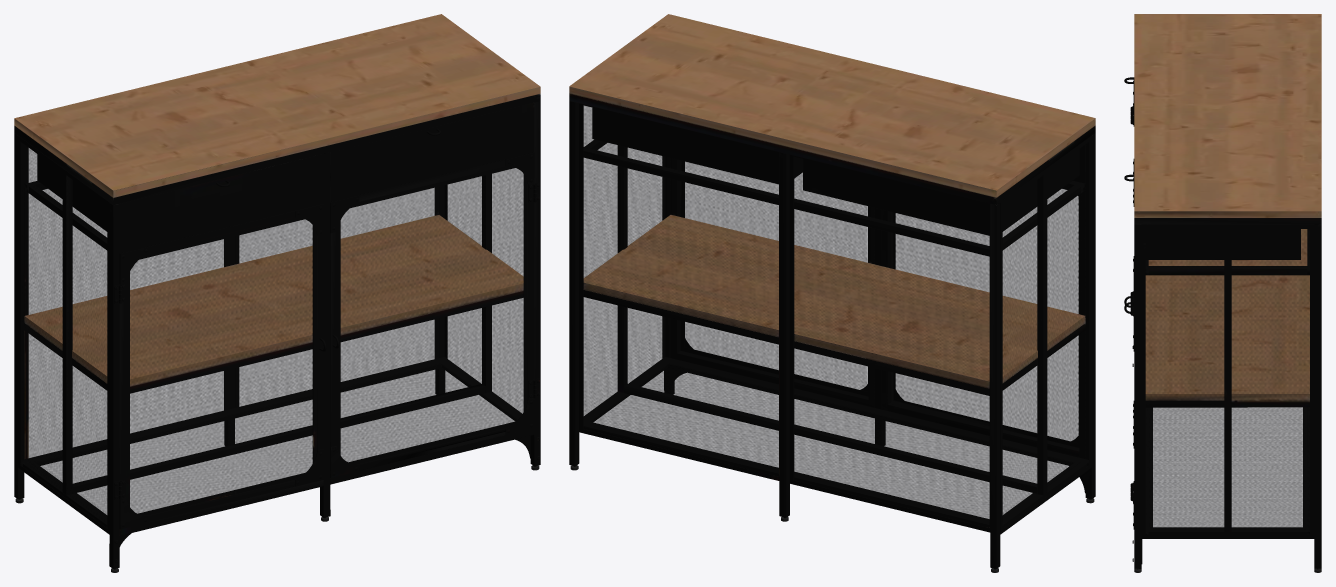
3 renders of one model, left to right at view 1: azimuth 30°, elevation 25°; view 2: azimuth 150°, elevation 25°; view 3: azimuth 270°, elevation 25°, orthographic. The views are drawn at different scales.
Visible parts, largest first — view 1: Mesh_0, Mesh_1; view 2: Mesh_0, Mesh_1; view 3: Mesh_0, Mesh_1.
Boxes of the visible parts, <box> form: Mesh_0: <box>14,14,540,572</box>; Mesh_1: <box>21,142,523,527</box>; Mesh_0: <box>569,14,1095,572</box>; Mesh_1: <box>583,105,1088,527</box>; Mesh_0: <box>1124,14,1321,572</box>; Mesh_1: <box>1146,229,1309,534</box>.
Bounding box in the file's own units: 1.11 × 0.95 × 0.4701.
2 materials, 2 textured.
